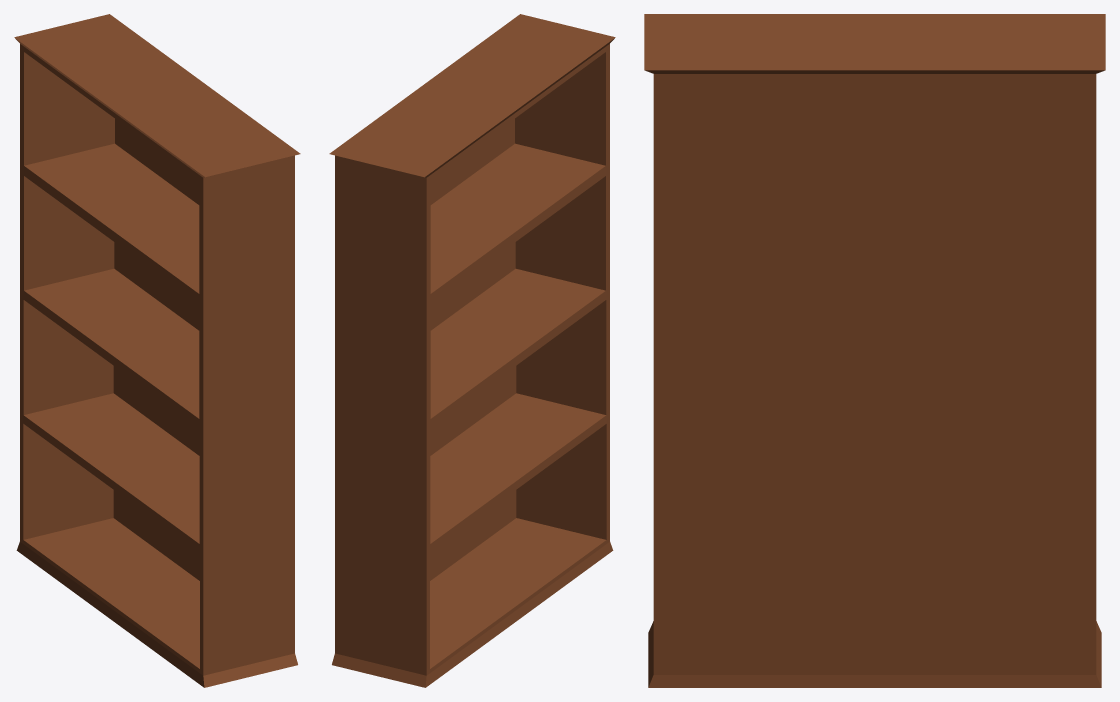
The model's file is bookcasewood02.obj.
The picture shows the model from 3 angles, left to right: view 1: azimuth 30°, elevation 25°; view 2: azimuth 150°, elevation 25°; view 3: azimuth 270°, elevation 25°; orthographic projection. The views are drawn at different scales.
Visible parts, largest first — view 1: Cube.001; view 2: Cube.001; view 3: Cube.001.
Boxes of the visible parts, x1,y1,x2,y2 form: Cube.001: (14,14,300,687); Cube.001: (329,14,615,687); Cube.001: (644,14,1105,687).
Bounding box in the file's own units: 0.4213 × 2.16 × 1.46.
